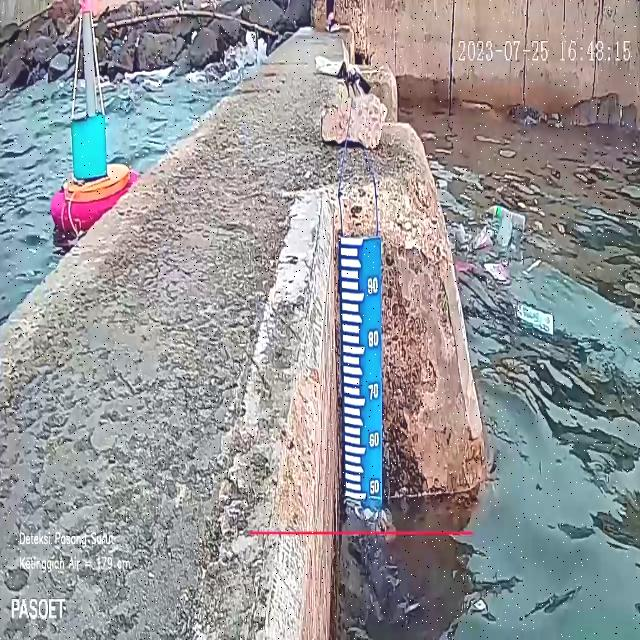50: (369, 478, 381, 496)
60: (369, 431, 380, 448)
70: (368, 382, 379, 401)
80: (367, 330, 380, 348)
90: (368, 276, 380, 295)
staff: (341, 235, 382, 503)
